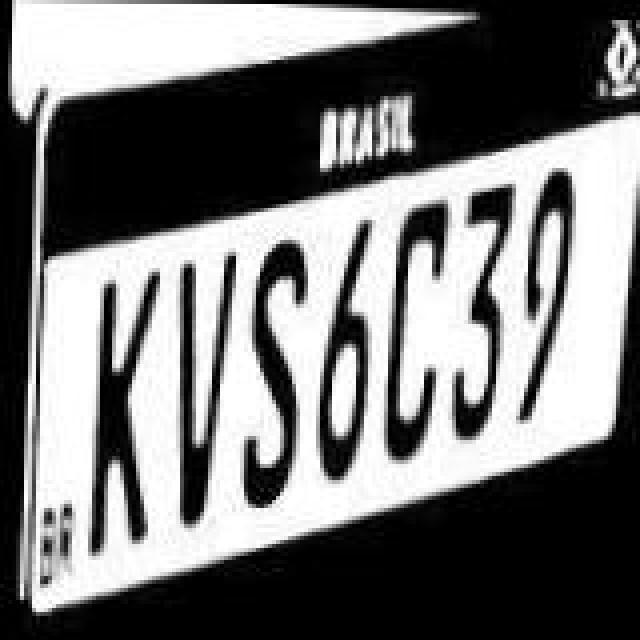3: (446, 172, 514, 444)
6: (312, 206, 376, 490)
9: (512, 158, 580, 430)
C: (382, 186, 450, 462)
K: (76, 268, 156, 568)
S: (230, 230, 310, 510)
V: (162, 248, 242, 532)
